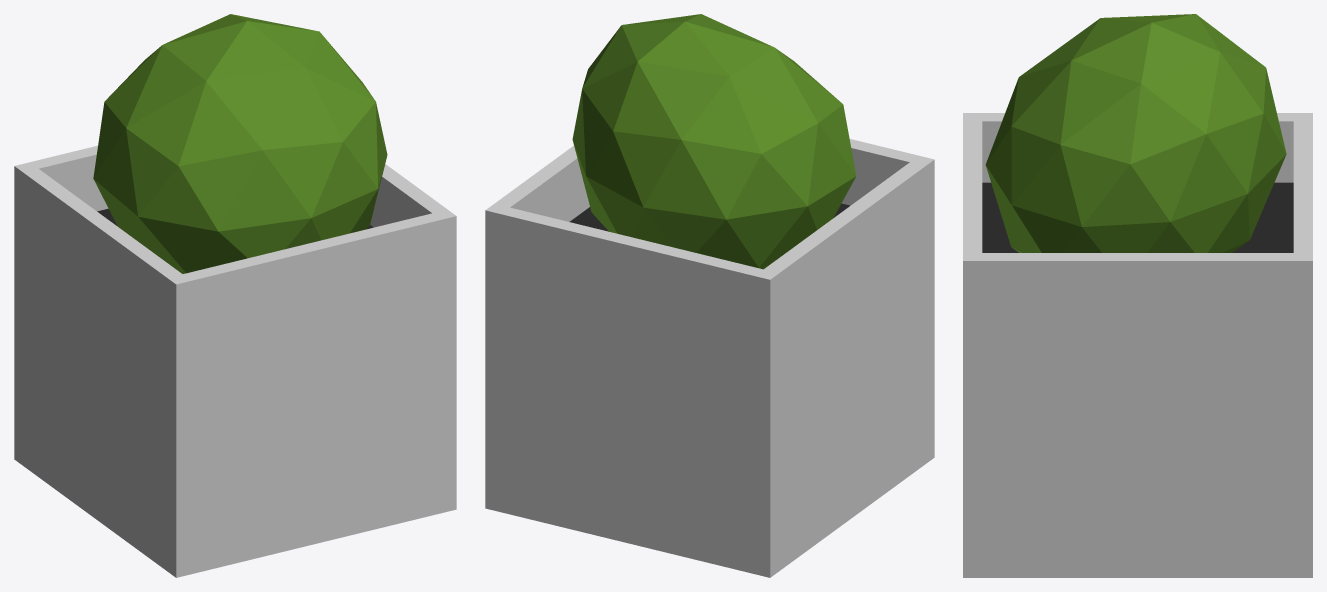
The model's file is Planter_2.fbx.
3 renders of one model, left to right at view 1: azimuth 30°, elevation 25°; view 2: azimuth 150°, elevation 25°; view 3: azimuth 270°, elevation 25°, orthographic. The views are drawn at different scales.
Parts seen in each view (by area): view 1: Planter_2; view 2: Planter_2; view 3: Planter_2.
Boxes of the visible parts, <box> form: Planter_2: <box>14,14,456,577</box>; Planter_2: <box>485,14,934,577</box>; Planter_2: <box>963,14,1312,577</box>.
Size of the model in its own units: 0.9746 by 1.51 by 0.9746.
